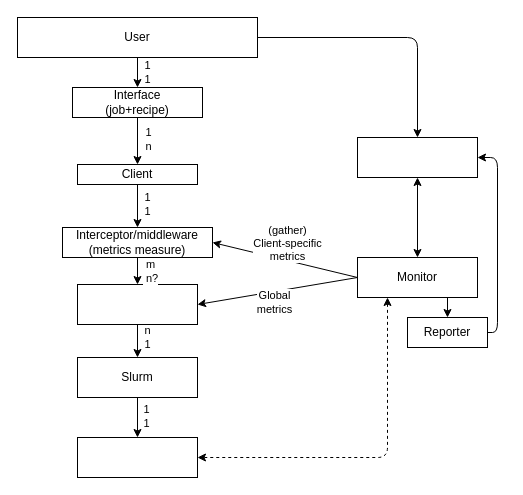
Some shapes in this 523 by 495 pixel diagram are drawn without their labels. The centre of each missing label's shape, as x and y in pixels:
"Logger" goes at point 137,457.
"Metric/Report Interface" goes at point 417,157.
"Server" goes at point 137,304.
